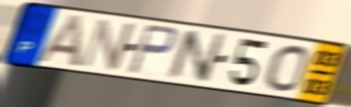5: (227, 36, 269, 88)
A: (33, 13, 87, 69)
N: (165, 28, 229, 85), (78, 16, 138, 72)
O: (263, 43, 311, 93)
P: (125, 22, 180, 77)
